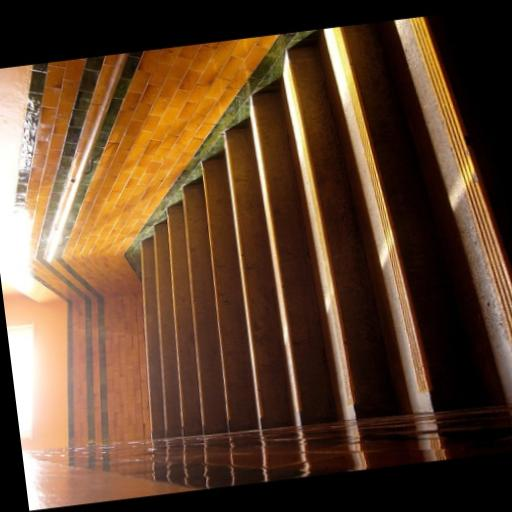stairs: (142, 16, 511, 437)
